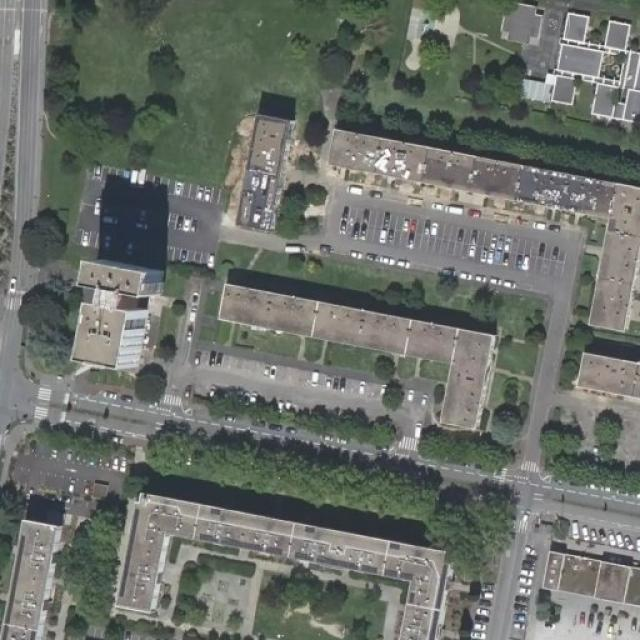immeuble: (326, 121, 640, 347), (212, 266, 514, 409), (179, 498, 445, 594), (95, 484, 194, 618), (64, 254, 168, 371), (511, 536, 640, 618), (356, 532, 449, 640), (0, 514, 65, 640), (238, 112, 295, 232), (567, 346, 640, 416), (1, 0, 1, 1), (0, 1, 1, 1), (1, 1, 2, 1)
